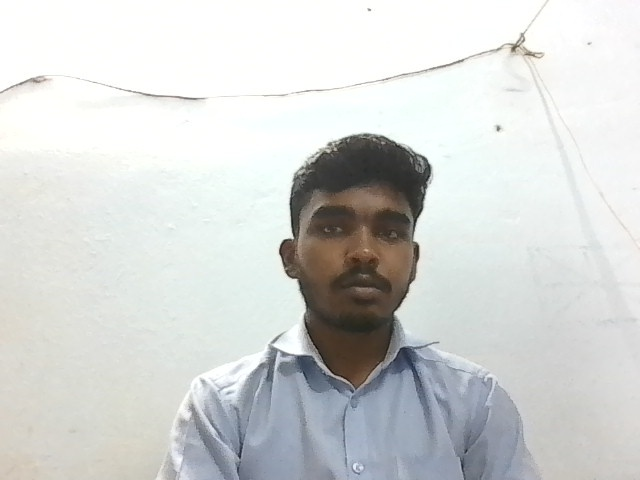real: (285, 133, 427, 335)
